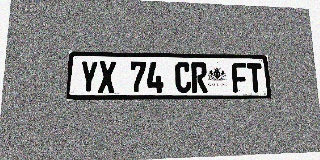4: (147, 62, 163, 93)
7: (129, 61, 146, 93)
C: (175, 62, 191, 93)
F: (231, 63, 248, 92)
R: (191, 62, 208, 93)
T: (247, 63, 263, 92)
X: (98, 61, 116, 93)
Y: (79, 61, 98, 93)
